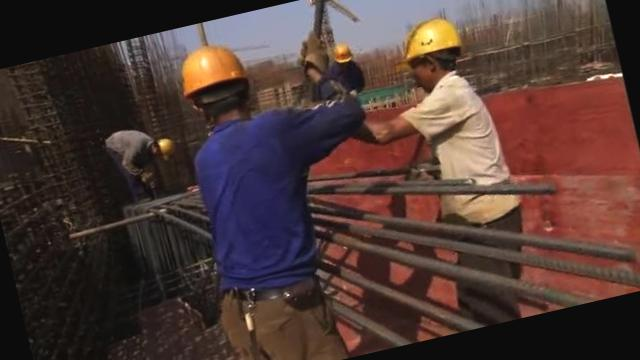helmet: (170, 40, 248, 100), (393, 11, 467, 62)
no_vest: (188, 110, 329, 301), (402, 68, 532, 238), (102, 122, 154, 176)
person: (160, 23, 377, 360), (373, 2, 562, 336), (97, 117, 184, 208)
